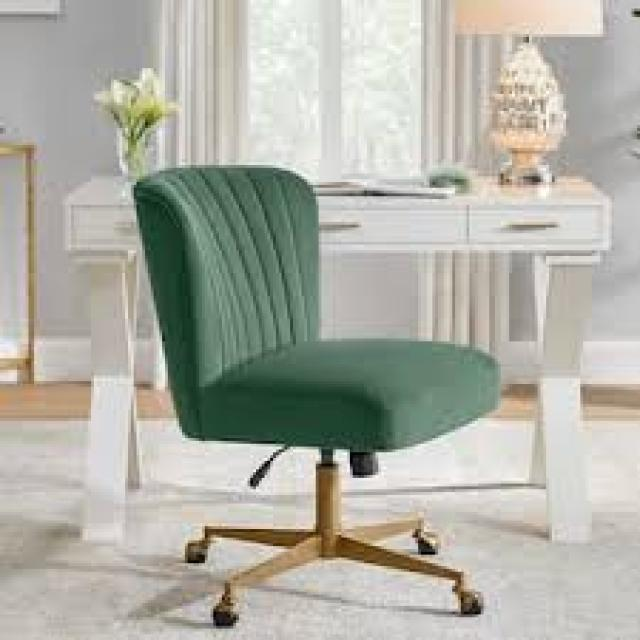chair: (97, 131, 566, 640)
